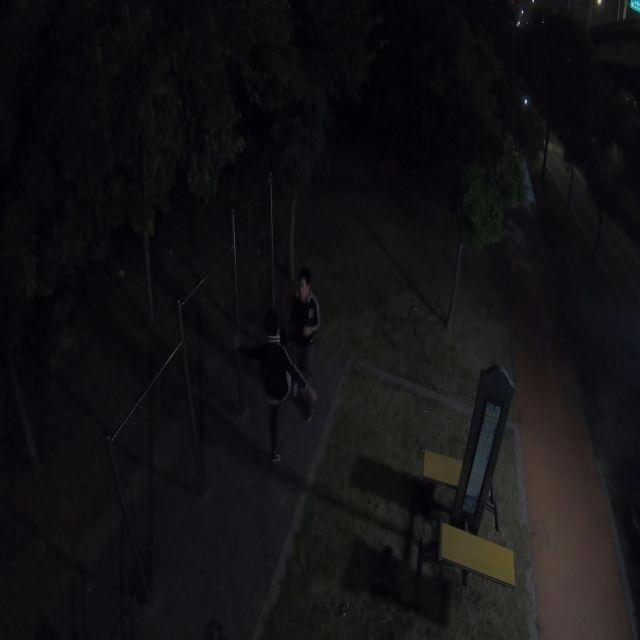fight: (234, 264, 323, 464)
